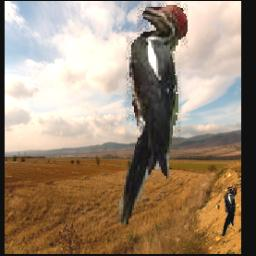Woodpecker: (119, 3, 188, 224), (222, 187, 237, 237)
